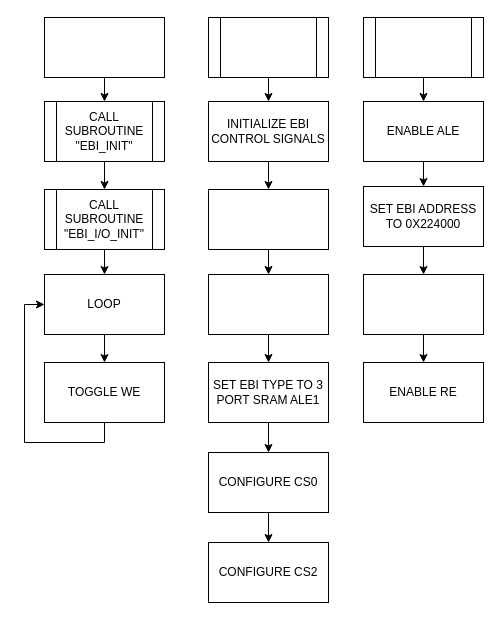
Image size: 501x620. Some labels were removed from this diagram. Each missing label, with the centre of its shape:
ENABLE WE: point 423,304
SET ADDRESS SIGNALS TO OUTPUT: point 268,304
SET EBI CONTROL SIGNALS TO OUTPUT: point 268,219
START: point 104,47
SUBROUTINE "EBI_I/O_INIT": point 423,47
SUBROUTINE "EBI_INIT": point 268,47
